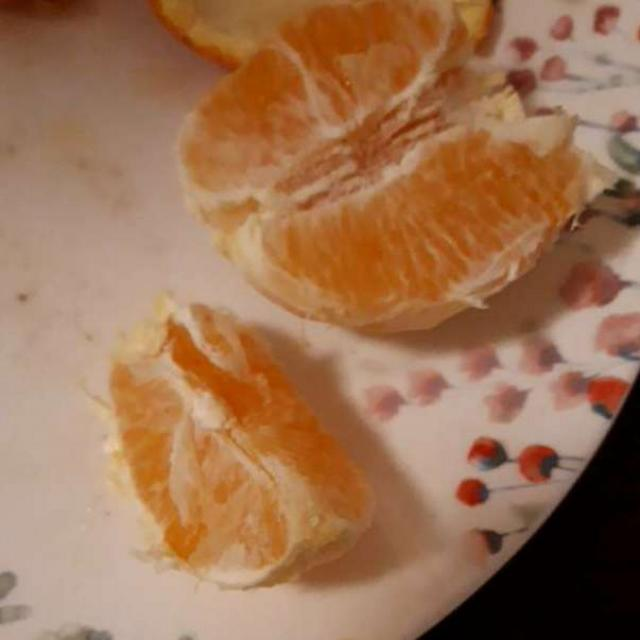orange: (110, 2, 619, 590)
